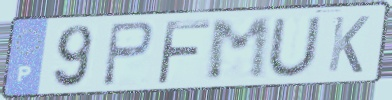9: (49, 23, 99, 90)
F: (153, 18, 214, 88)
K: (324, 14, 372, 75)
M: (205, 15, 273, 84)
P: (99, 19, 156, 89)
U: (265, 14, 325, 79)
